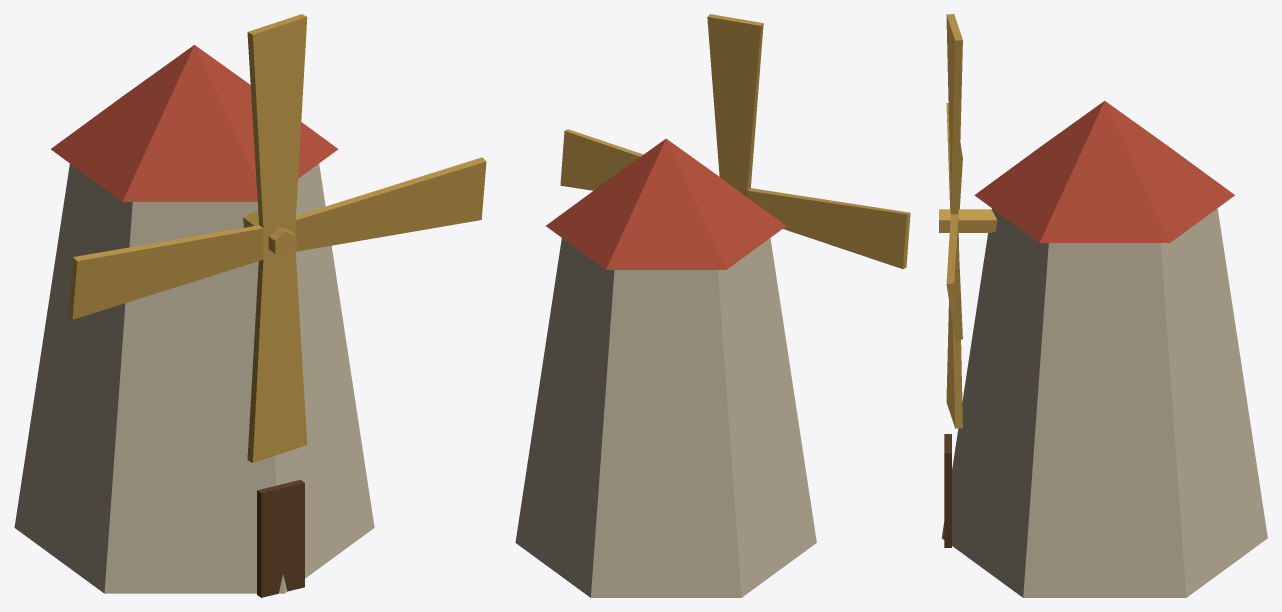
Rendered from windmill.glb.
The picture shows the model from 3 angles, left to right: view 1: azimuth 30°, elevation 25°; view 2: azimuth 150°, elevation 25°; view 3: azimuth 270°, elevation 25°; orthographic projection. The views are drawn at different scales.
Visible parts, largest first — view 1: windmill, Cylinder; view 2: windmill, Cylinder; view 3: windmill, Cylinder.
Part boxes in pixels (bbox=[...]): windmill: bbox=[14, 45, 374, 597]; Cylinder: bbox=[68, 14, 486, 462]; windmill: bbox=[515, 138, 816, 597]; Cylinder: bbox=[560, 14, 910, 268]; windmill: bbox=[941, 101, 1267, 597]; Cylinder: bbox=[939, 14, 997, 428].
Bounding box in the file's own units: 0.328 × 0.432 × 0.252.
